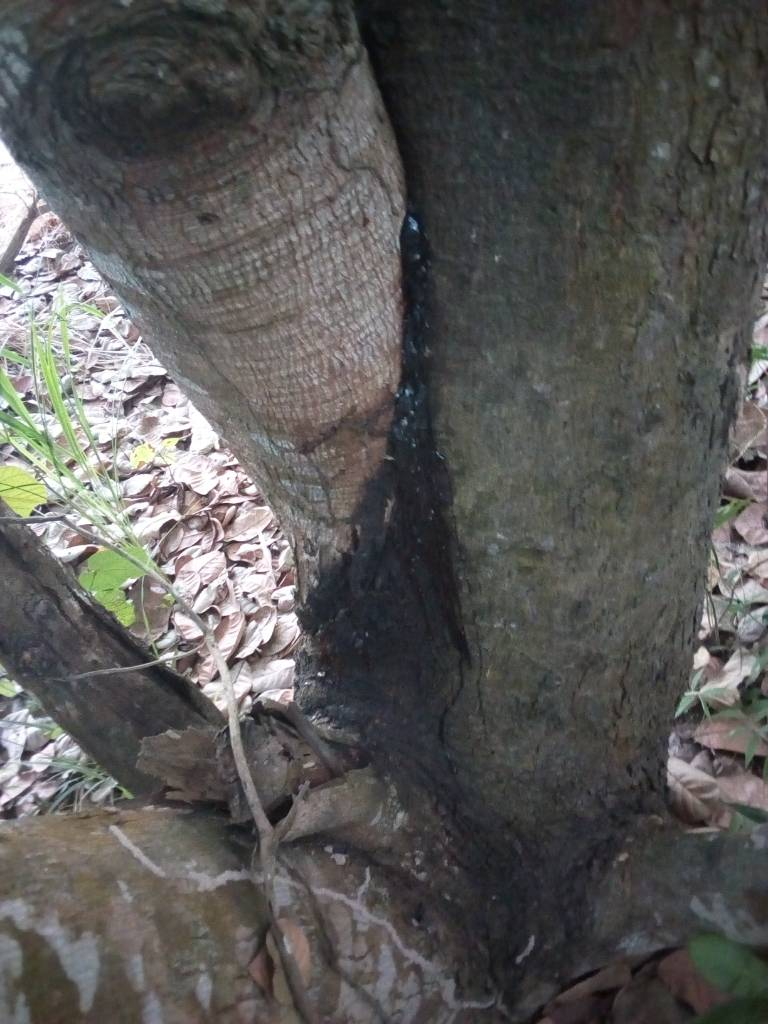Gommose: (329, 207, 452, 711)
